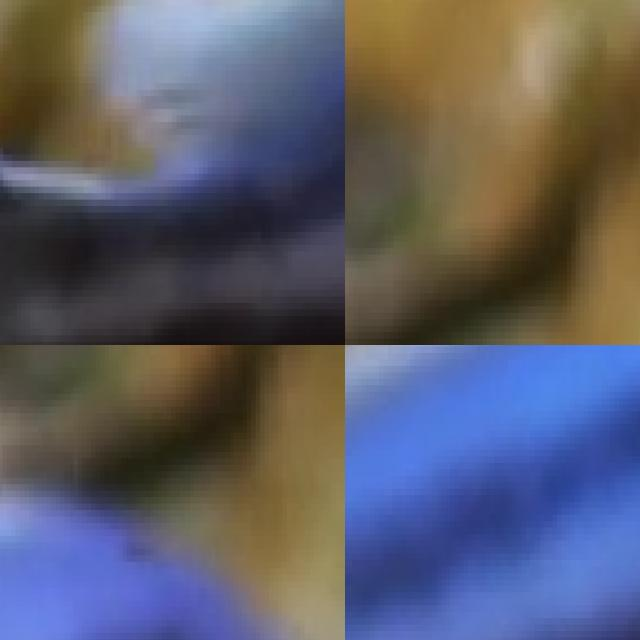fish: (0, 0, 345, 345), (345, 345, 640, 640)
